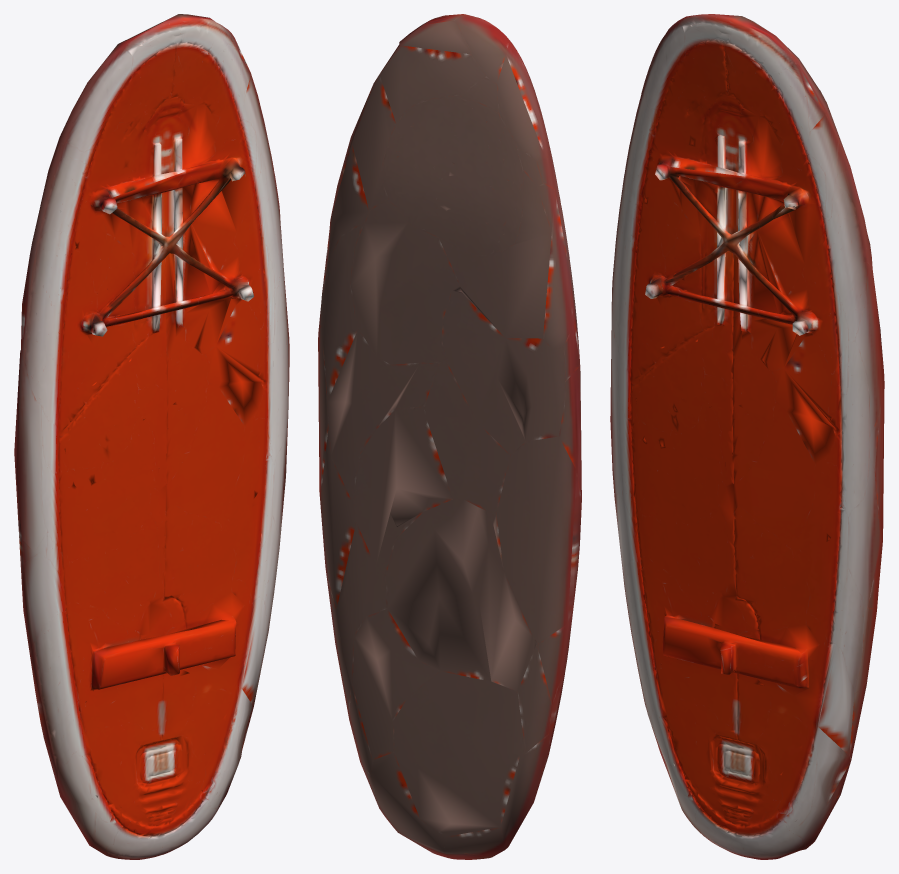
File: paddleboard.glb
The picture shows the model from 3 angles, left to right: view 1: azimuth 30°, elevation 25°; view 2: azimuth 150°, elevation 25°; view 3: azimuth 330°, elevation 25°; orthographic projection. The views are drawn at different scales.
Parts seen in each view (by area): view 1: node_0; view 2: node_0; view 3: node_0.
Part boxes in pixels (x1=…): node_0: x1=14, y1=14, x2=289, y2=859; node_0: x1=318, y1=14, x2=581, y2=859; node_0: x1=610, y1=14, x2=884, y2=859.
Size of the model in its own units: 0.3973 by 1.2 by 0.0956.
Materials: 1 (1 with a texture image).
